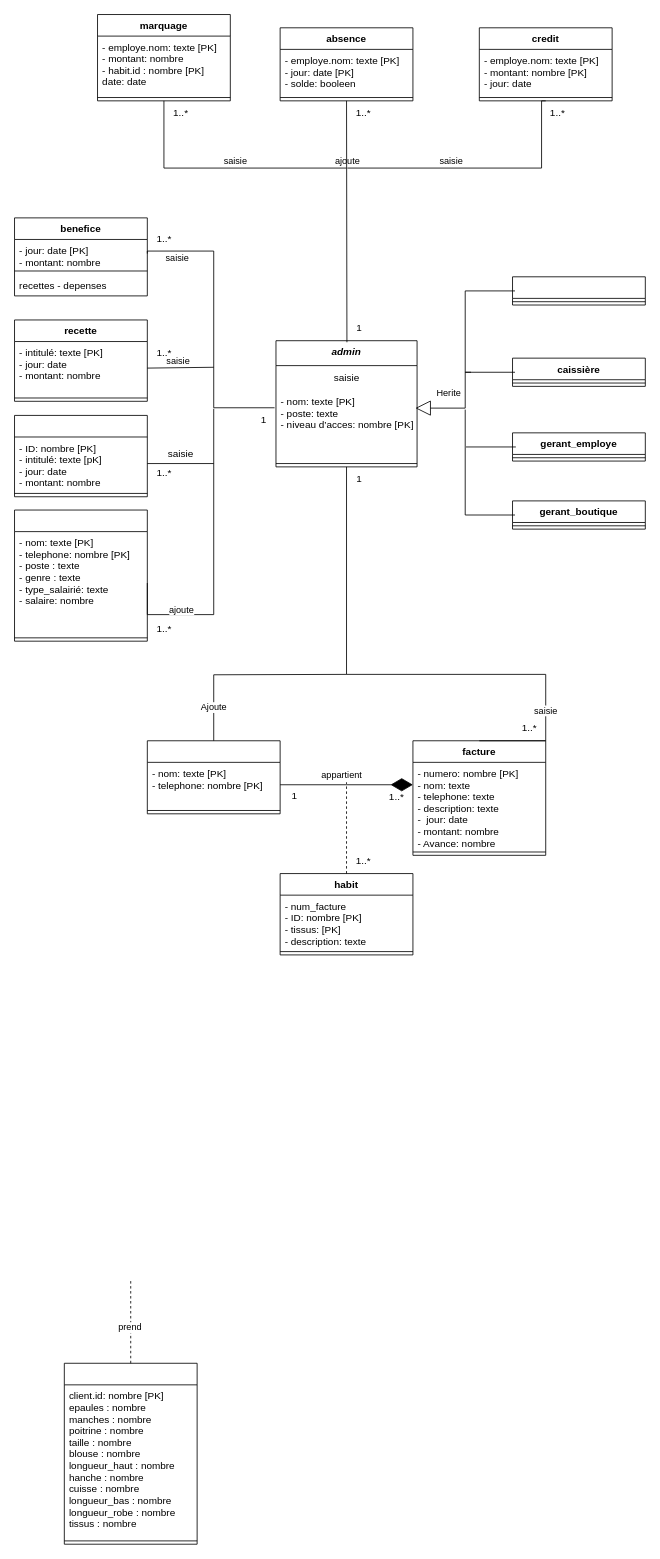
This 660x1559 diagram has some shape labels left out. The shapes that lost their labels are listed below. From the top down, each one's box as (x1, y1, x2, y2) in pixels, then its label:
(512, 276, 645, 305): comptable
(14, 415, 147, 497): depense
(14, 509, 147, 641): employe
(146, 740, 280, 814): client
(63, 1362, 197, 1544): mesure
